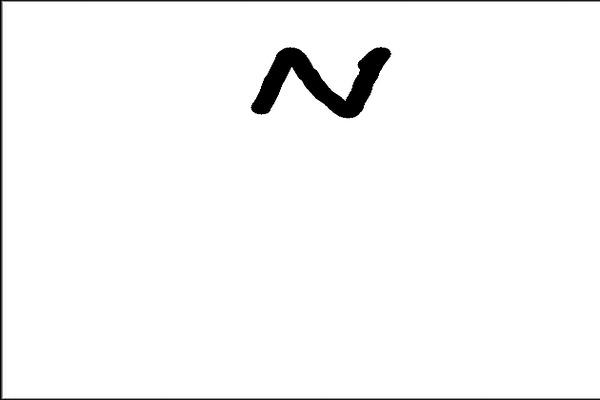N: (243, 39, 397, 123)
